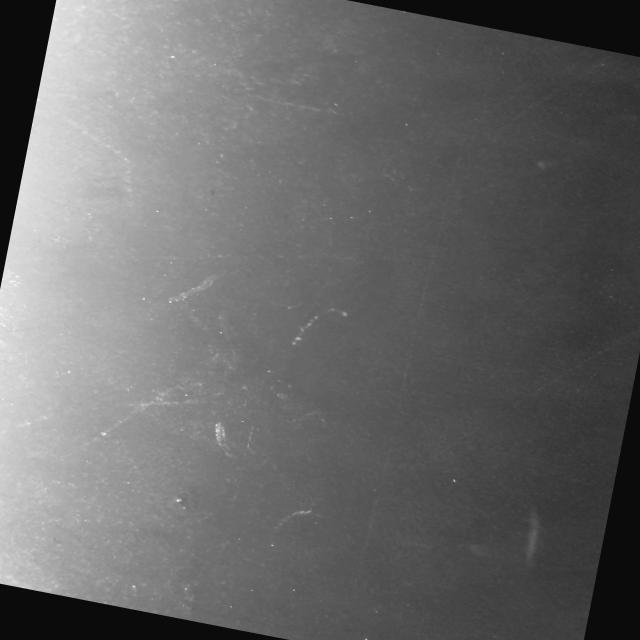beta: (430, 295, 640, 499), (389, 122, 578, 257), (63, 328, 220, 485), (498, 32, 620, 152), (136, 223, 312, 289), (57, 114, 142, 164), (287, 297, 355, 358), (0, 398, 56, 464), (118, 384, 204, 421), (268, 501, 318, 536), (118, 164, 142, 212)
